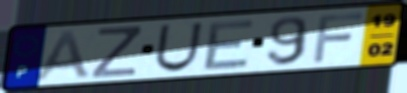9: (265, 15, 311, 67)
A: (32, 29, 94, 83)
E: (200, 18, 258, 72)
F: (311, 11, 366, 64)
U: (152, 21, 205, 74)
Z: (89, 25, 143, 80)
